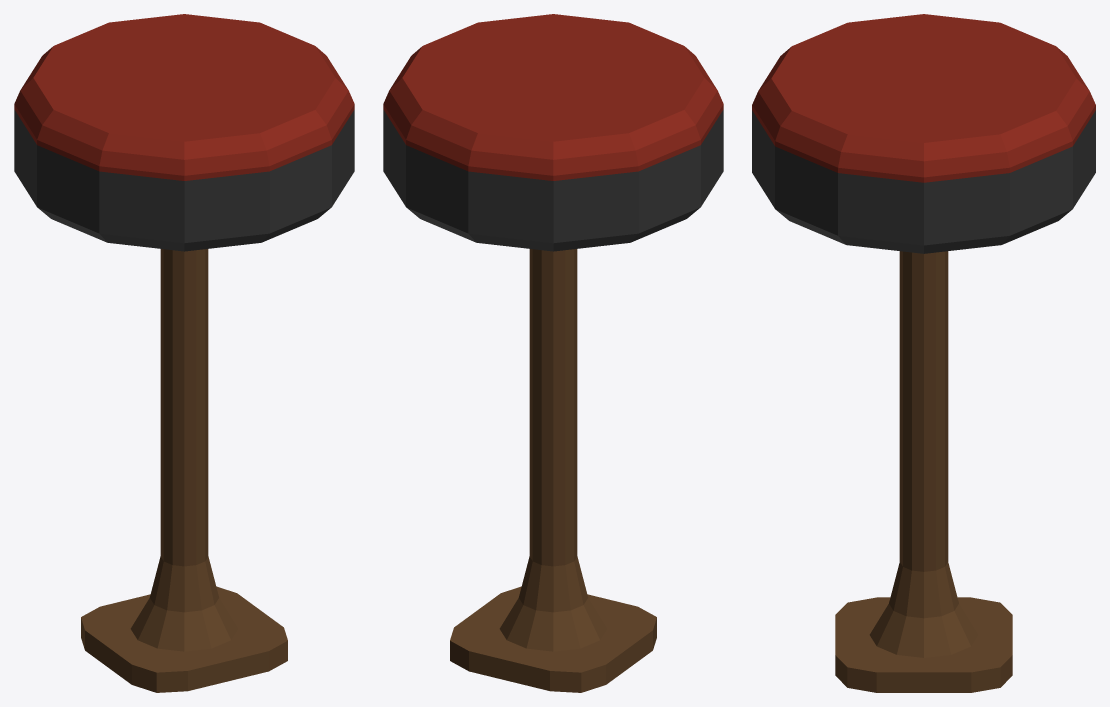
File: LongStool.fbx
3 renders of one model, left to right at view 1: azimuth 30°, elevation 25°; view 2: azimuth 150°, elevation 25°; view 3: azimuth 270°, elevation 25°, orthographic.
Visible parts, largest first — view 1: Cylinder; view 2: Cylinder; view 3: Cylinder.
Boxes of the visible parts, left/top/right/bottom form: Cylinder: left=14, top=14, right=354, bottom=692; Cylinder: left=383, top=14, right=723, bottom=692; Cylinder: left=752, top=14, right=1095, bottom=692.
Size of the model in its own units: 2.18 by 4.04 by 2.18.
